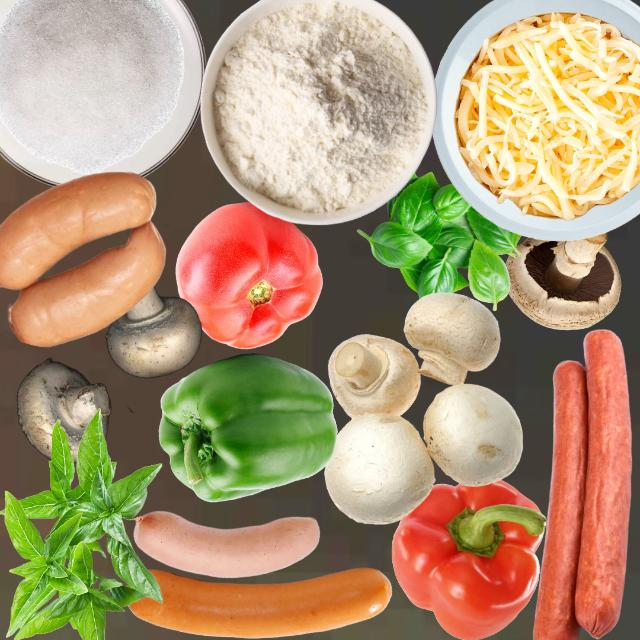Flour: (211, 0, 427, 213)
Sugar: (0, 0, 184, 175)
